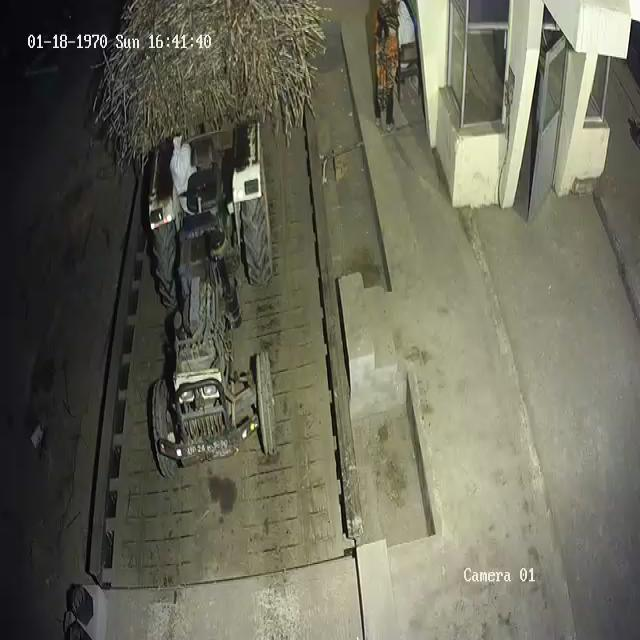Tratores - v5 YOLO V8L 2024-11-13: (141, 138, 281, 470)
